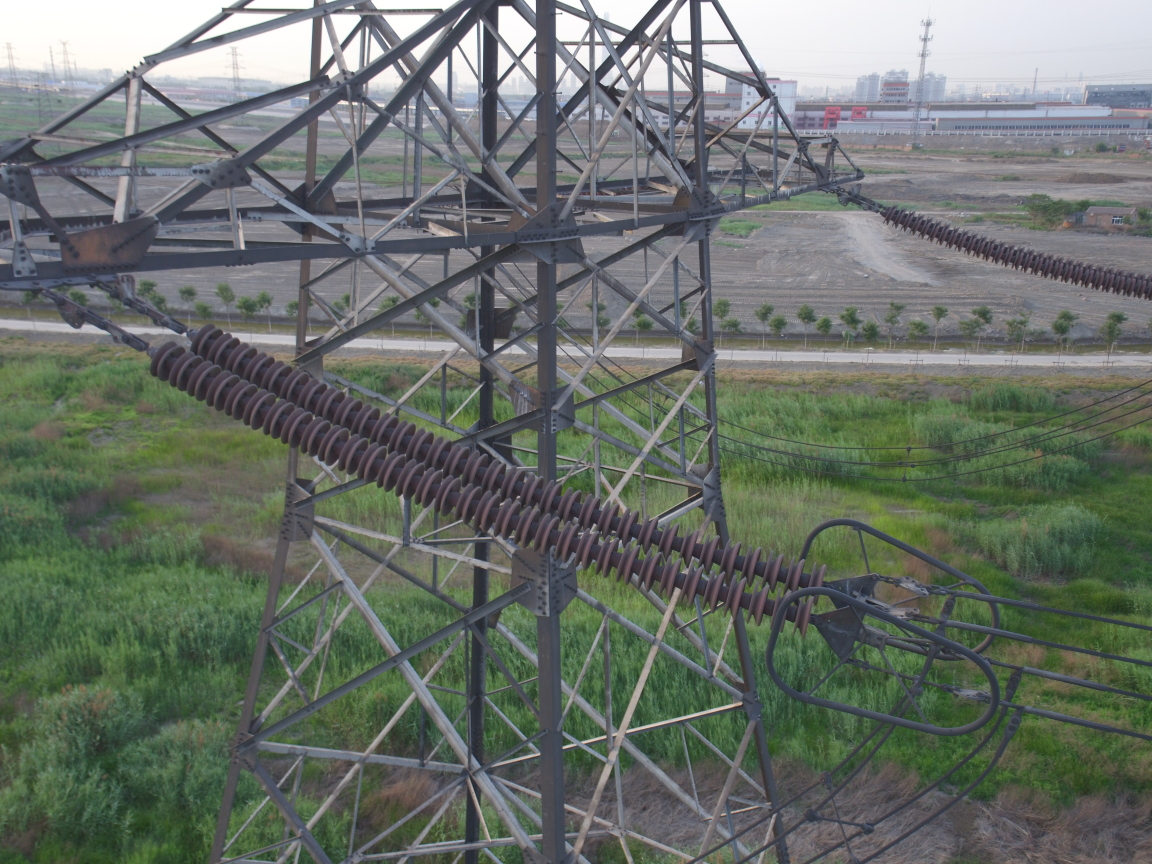insulator: (106, 312, 843, 641), (859, 194, 1151, 303)
